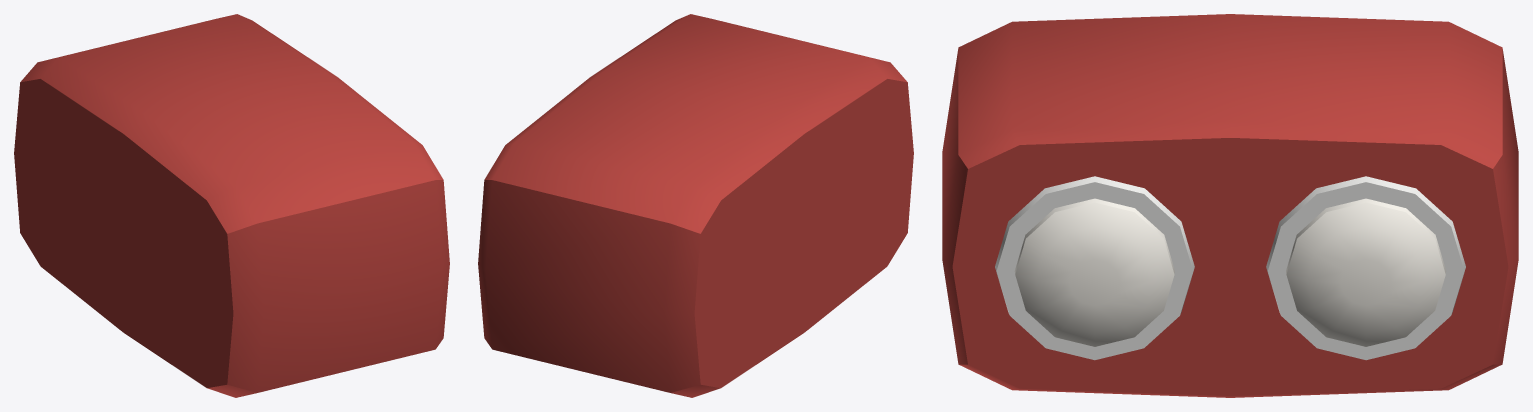
Rendered from projector_lod1.glb.
3 renders of one model, left to right at view 1: azimuth 30°, elevation 25°; view 2: azimuth 150°, elevation 25°; view 3: azimuth 270°, elevation 25°, orthographic. The views are drawn at different scales.
Parts seen in each view (by area): view 1: projector_lod1; view 2: projector_lod1; view 3: projector_lod1.
Boxes of the visible parts, bbox=[...] form: projector_lod1: bbox=[14, 14, 449, 397]; projector_lod1: bbox=[478, 14, 913, 397]; projector_lod1: bbox=[942, 14, 1518, 397].
Bounding box in the file's own units: 0.101 × 0.09 × 0.17.
